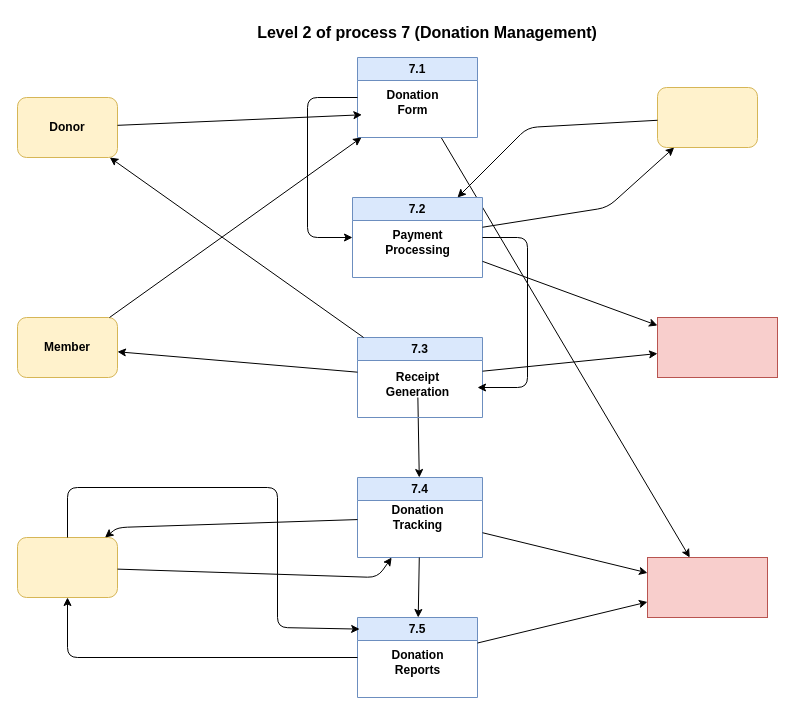
Some shapes in this 795 by 715 pixel diagram are drawn without their labels. Each missing label, with the centre of its shape:
Donation Database: point 707,587
Manager: point 67,567
Payment Gateway: point 707,117
Transaction Log: point 717,347
